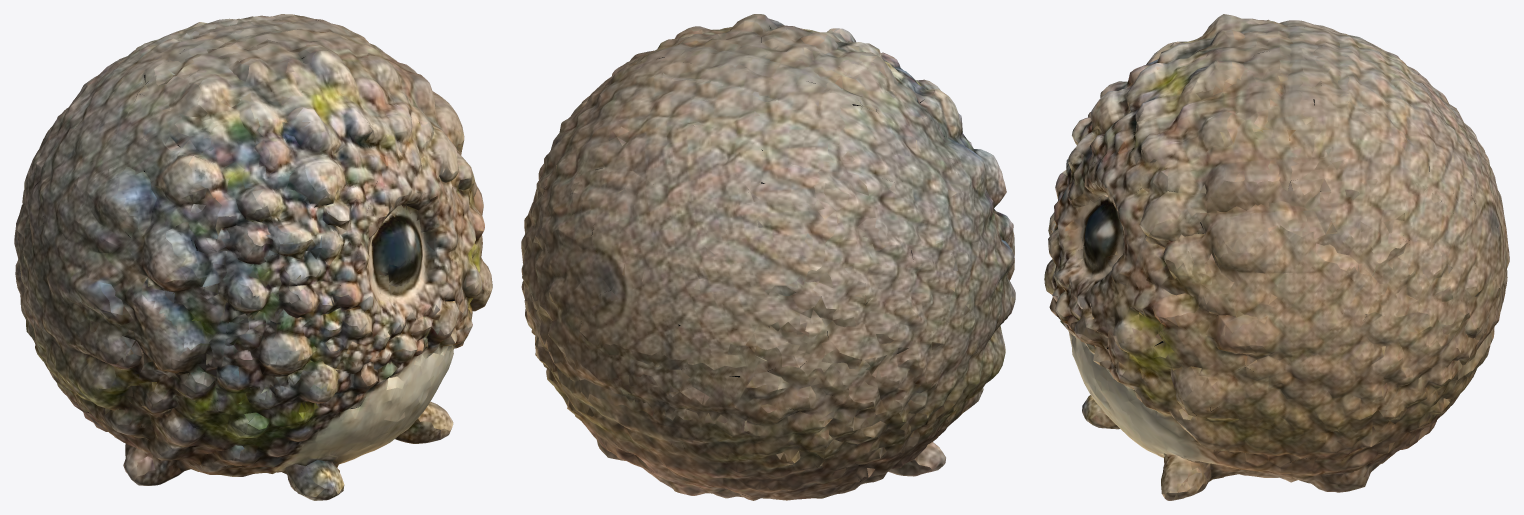
Rendered from rock-03.glb.
The picture shows the model from 3 angles, left to right: view 1: azimuth 30°, elevation 25°; view 2: azimuth 150°, elevation 25°; view 3: azimuth 270°, elevation 25°; orthographic projection. The views are drawn at different scales.
Visible parts, largest first — view 1: world; view 2: world; view 3: world.
Part boxes in pixels (x1,y1,x2,y2): world: [14, 14, 492, 500]; world: [521, 14, 1015, 500]; world: [1044, 14, 1509, 500].
Size of the model in its own units: 0.9014 by 0.8428 by 0.8788.
Materials: 1 (1 with a texture image).
